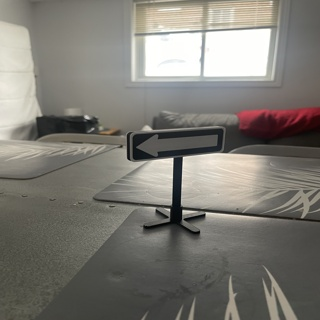sign_oneway_left: (128, 125, 224, 159)
